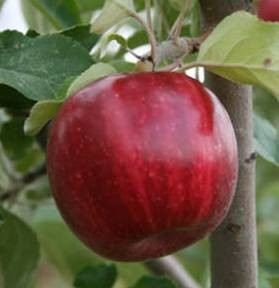apple: (42, 70, 240, 263)
